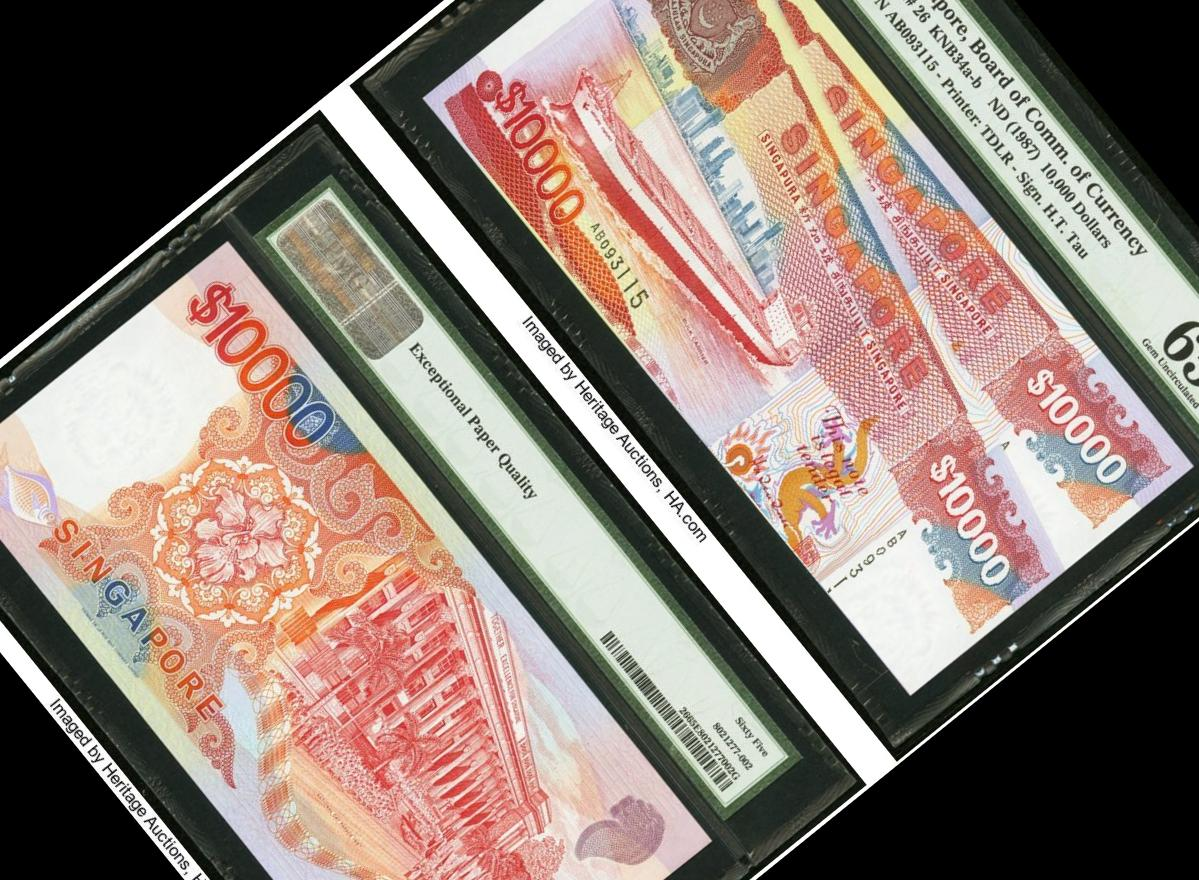10000SingaporeDollar: (428, 0, 1193, 695)
